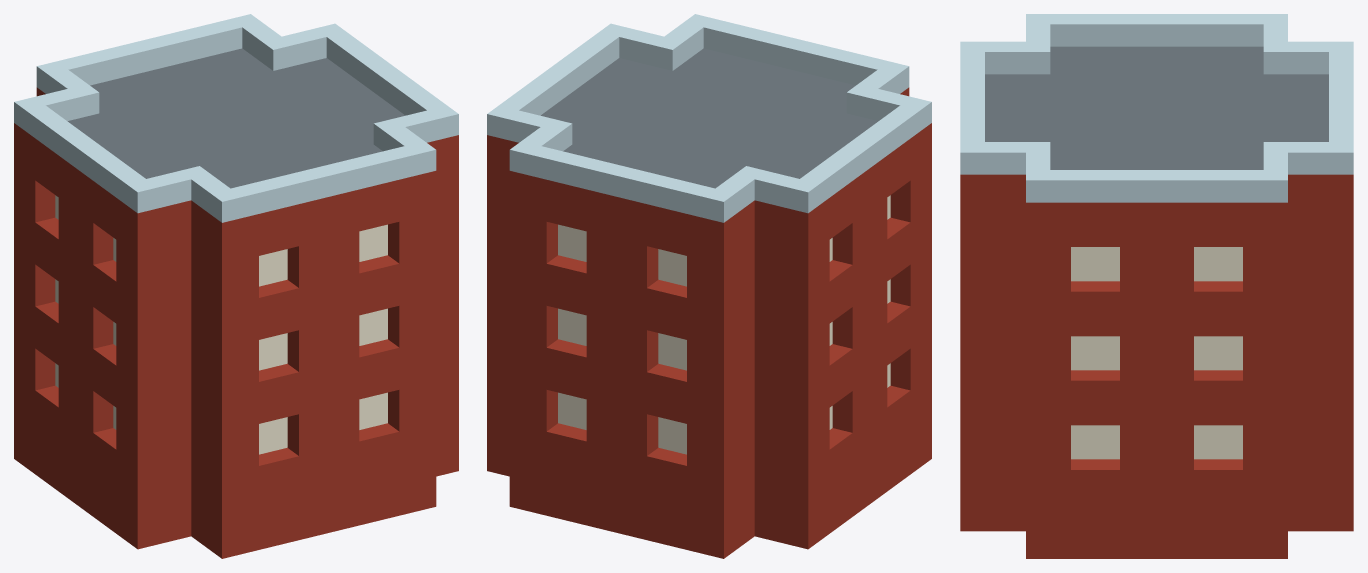
The model's file is Building_4 (Red).obj.
3 renders of one model, left to right at view 1: azimuth 30°, elevation 25°; view 2: azimuth 150°, elevation 25°; view 3: azimuth 270°, elevation 25°, orthographic. The views are drawn at different scales.
Visible parts, largest first — view 1: Building_4_(Red); view 2: Building_4_(Red); view 3: Building_4_(Red).
Part boxes in pixels (bbox=[...]): Building_4_(Red): bbox=[14, 14, 458, 558]; Building_4_(Red): bbox=[487, 14, 931, 558]; Building_4_(Red): bbox=[960, 14, 1353, 558].
Size of the model in its own units: 1.6 by 1.7 by 1.6.
